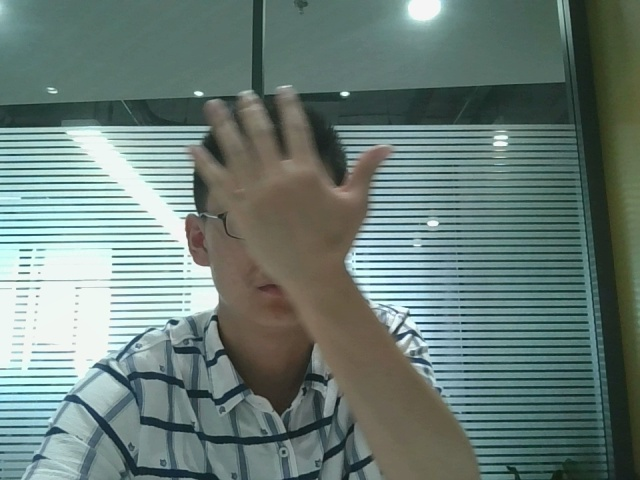hand: (179, 83, 399, 289)
